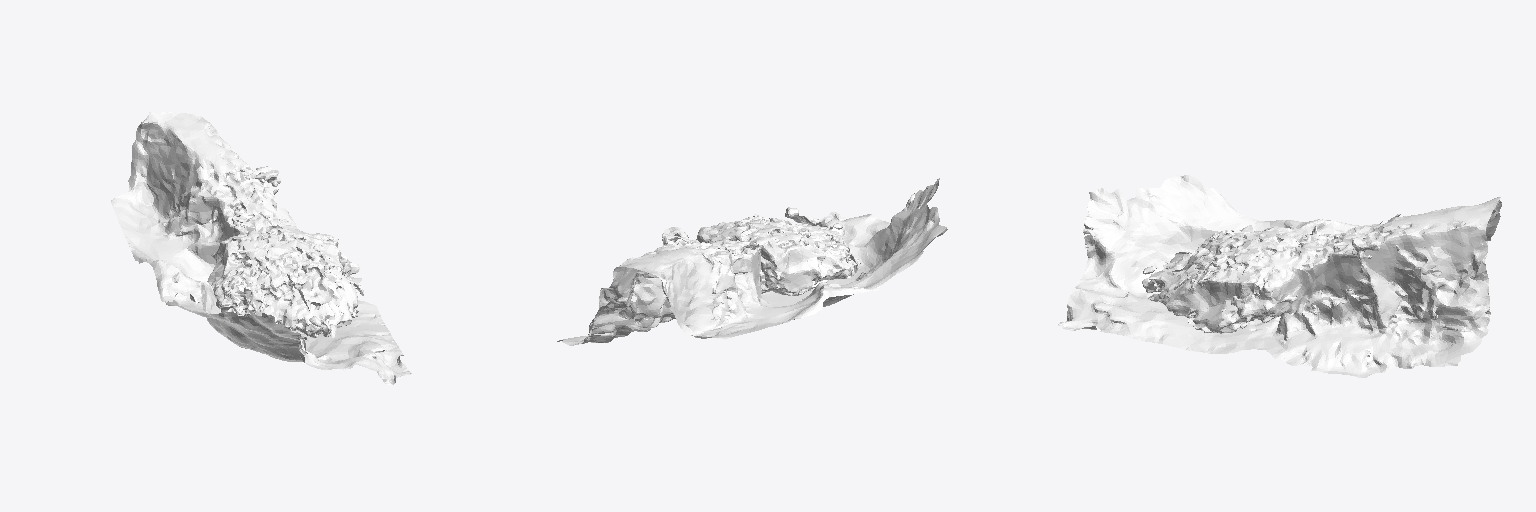
The picture shows the model from 3 angles: view 1: azimuth 30°, elevation 25°; view 2: azimuth 150°, elevation 25°; view 3: azimuth 270°, elevation 25°; orthographic projection.
Parts seen in each view (by area): view 1: Subdivision_Surface.1; view 2: Subdivision_Surface.1; view 3: Subdivision_Surface.1.
Boxes of the visible parts, <box> form: Subdivision_Surface.1: <box>111,112,411,384</box>; Subdivision_Surface.1: <box>557,178,947,345</box>; Subdivision_Surface.1: <box>1058,175,1501,377</box>.
Bounding box in the file's own units: 0.3533 × 0.1639 × 0.5343.